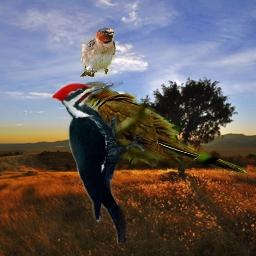Cuckoo: (66, 81, 249, 176)
Swallow: (80, 27, 117, 77)
Woodpecker: (52, 79, 148, 243)
